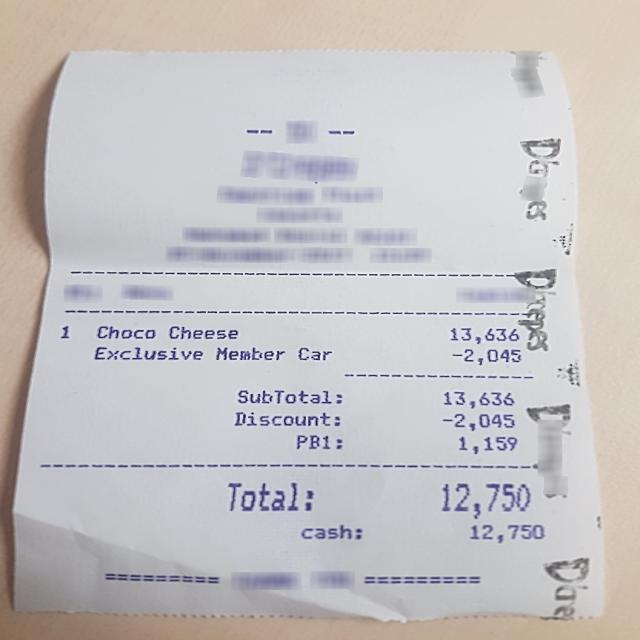kertas: (14, 51, 604, 622)
